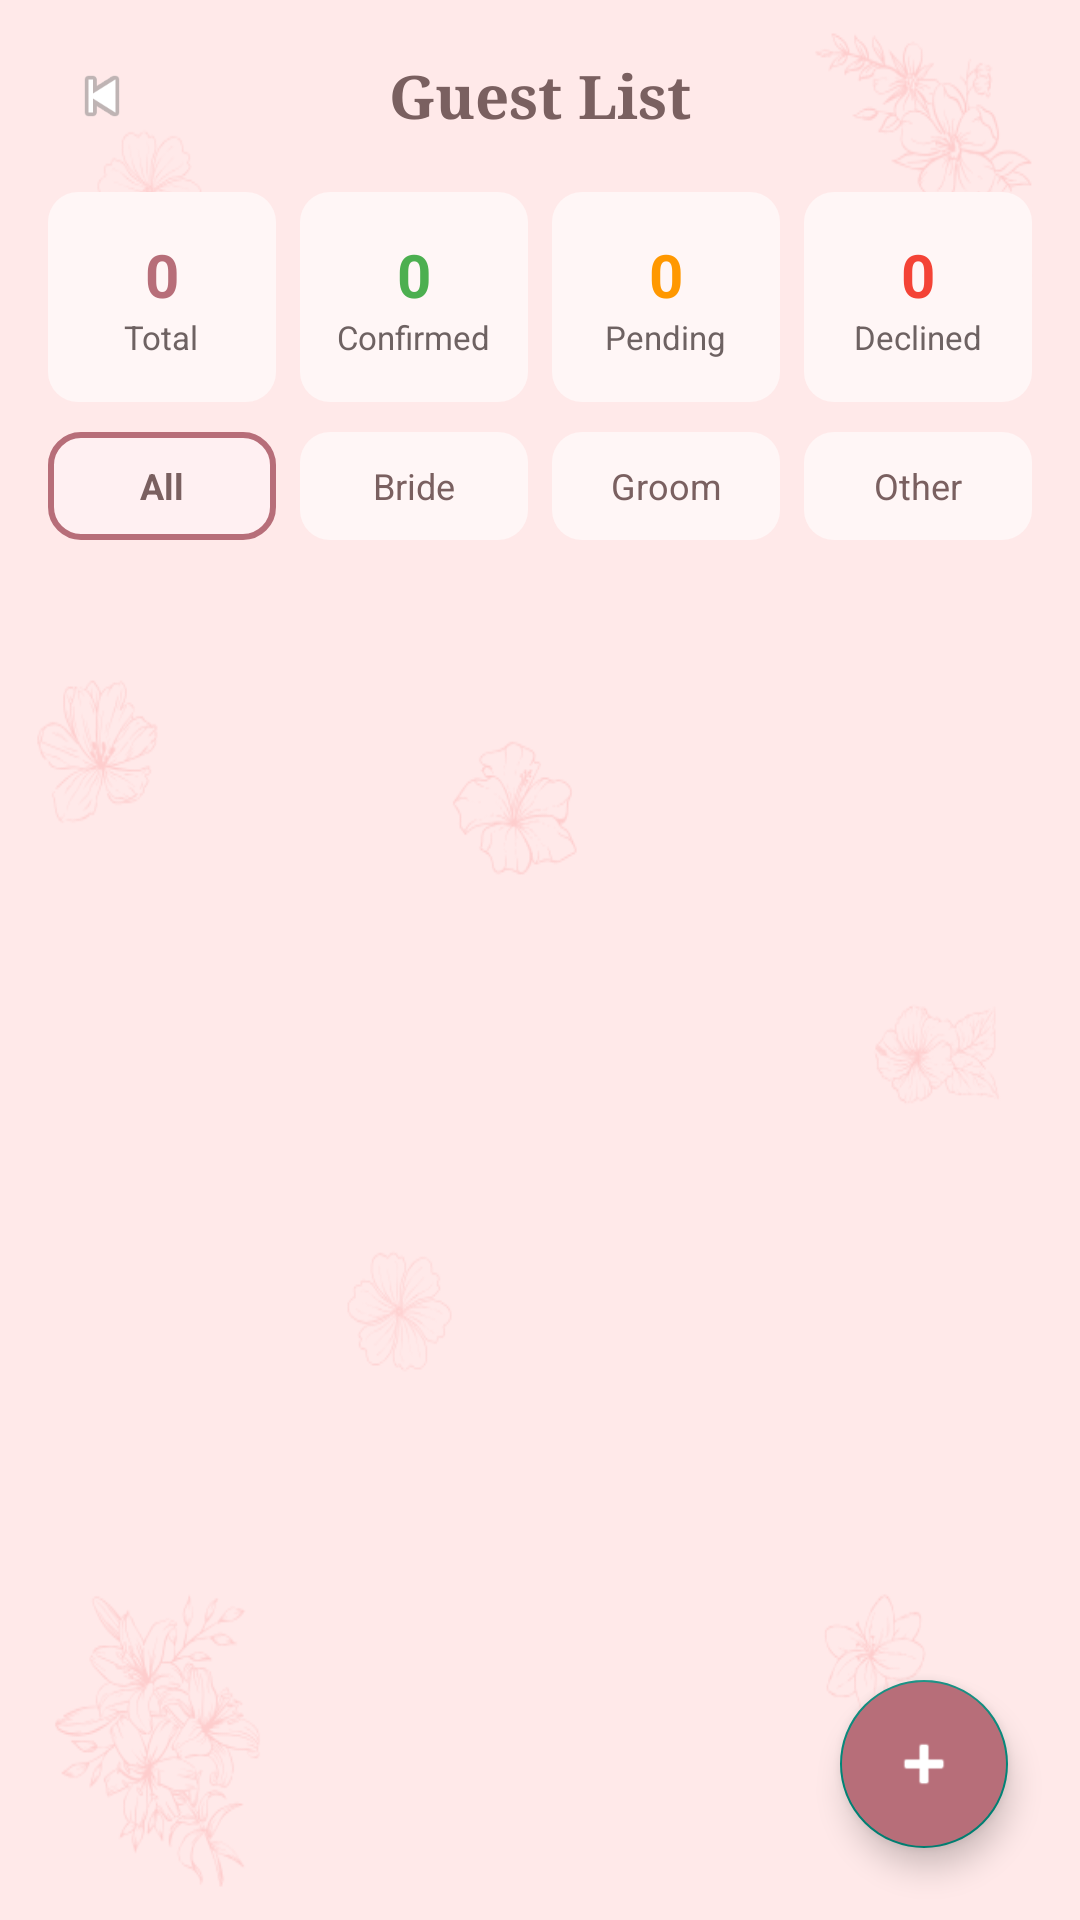

Screen size 1080x1920. Icon name, then its center in pixels as (x=x, y=y):
Add guest: (x=924, y=1764)
